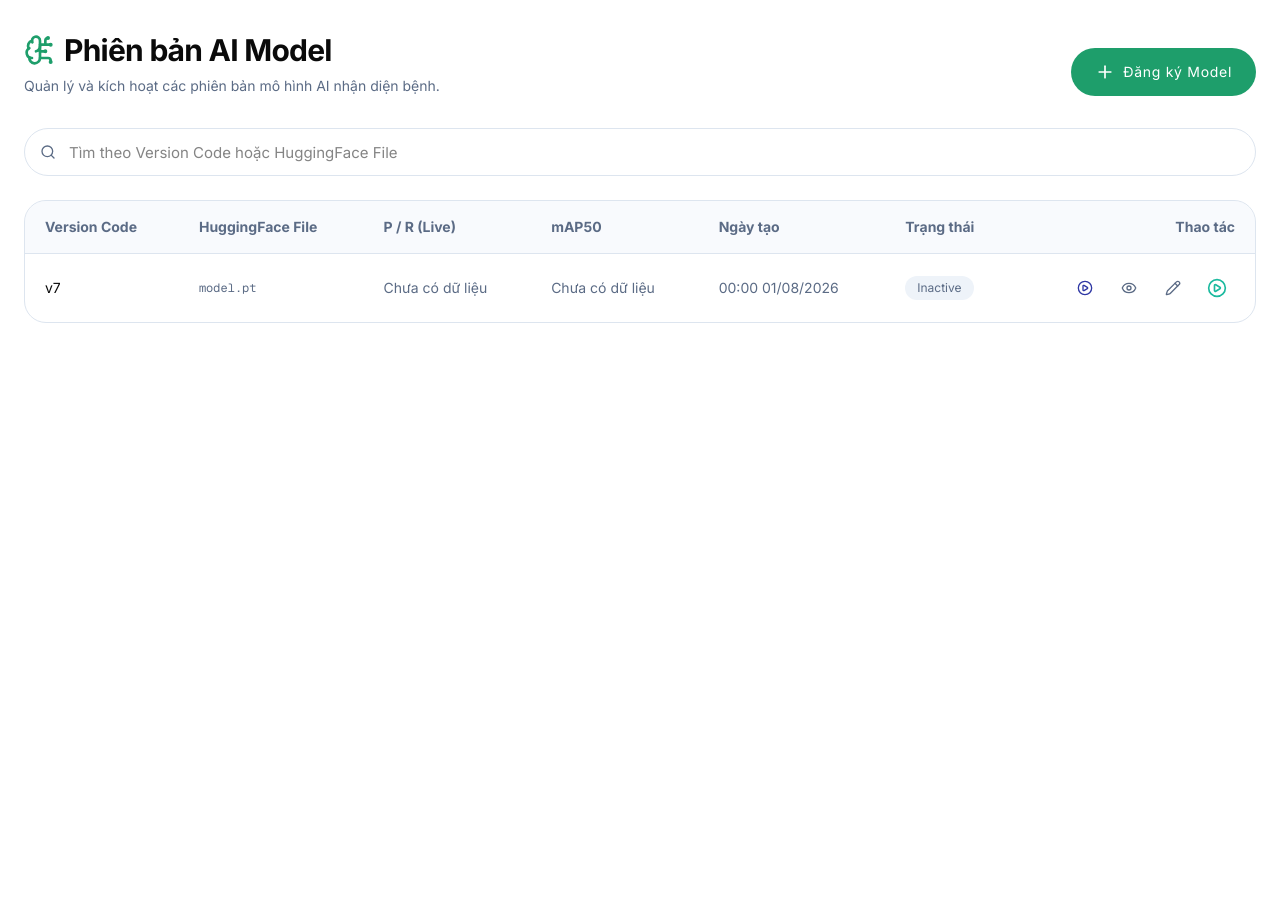
Test: AiModelList — luồng kích hoạt phiên bản (BR-02) › bấm Huỷ đóng ConfirmDialog và reset lỗi activate
Click the button titled "Kích hoạt mô hình này" at x=1217, y=288, box [1199, 270, 1235, 306]
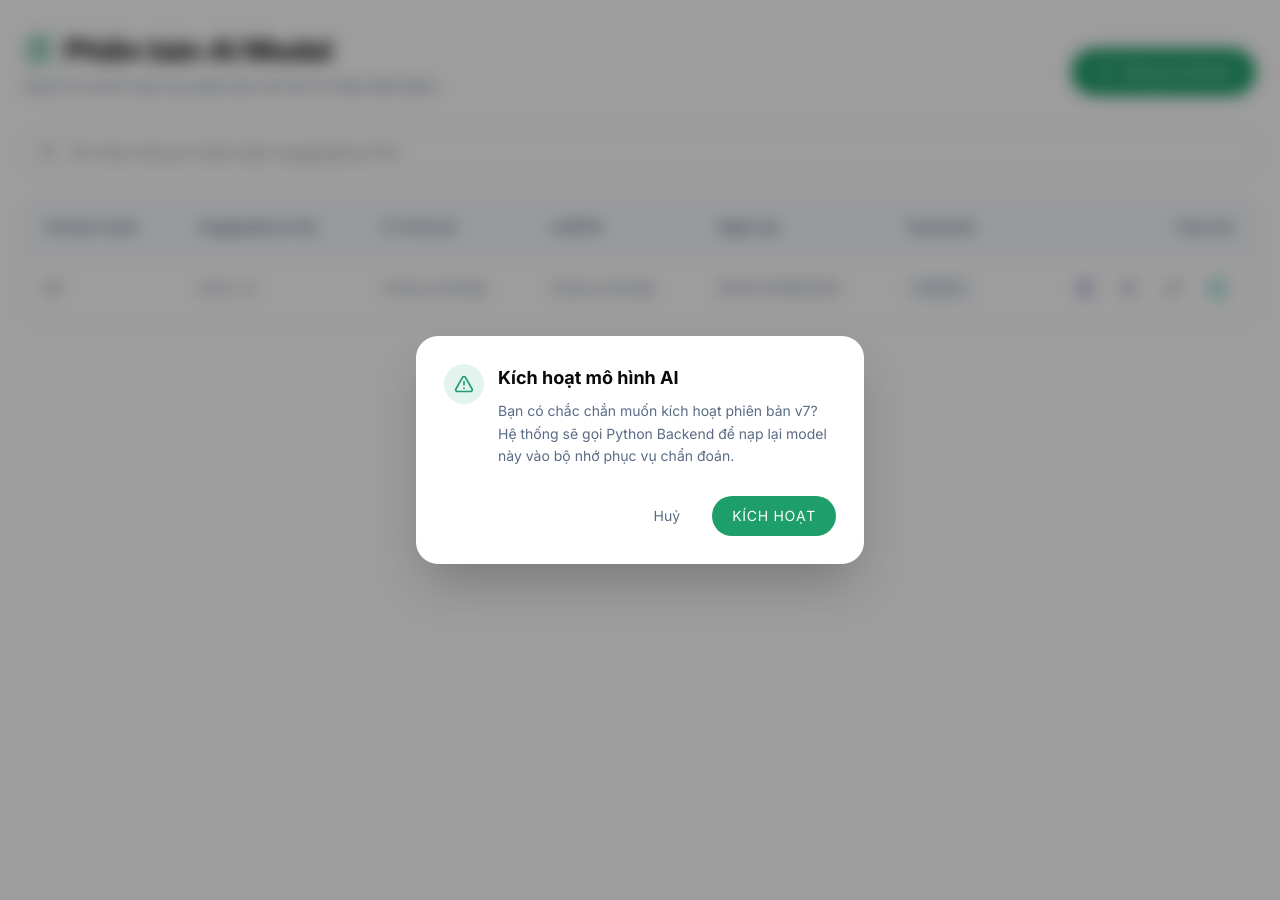
Click the button "Huỷ" at x=667, y=516, box [634, 496, 700, 536]
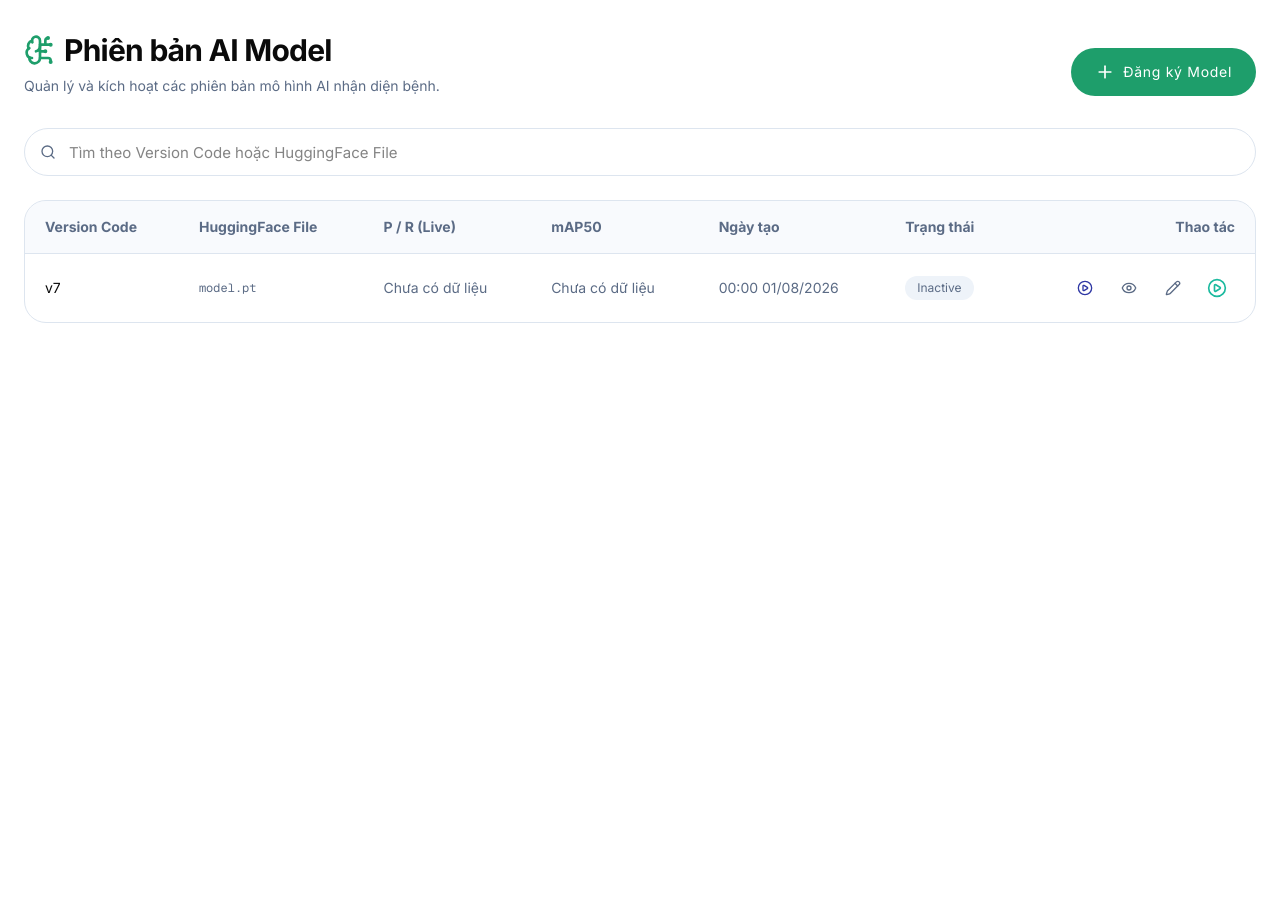
expect the text "kích hoạt phiên bản v7" is gone: met
